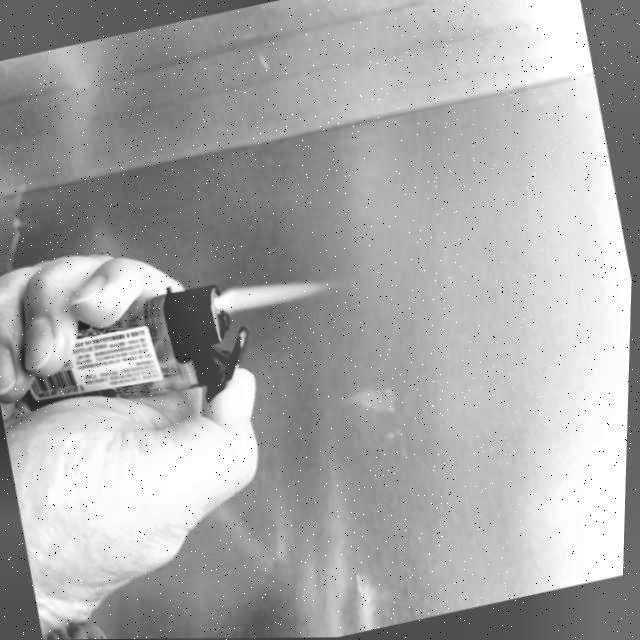Fire: (216, 268, 330, 315)
